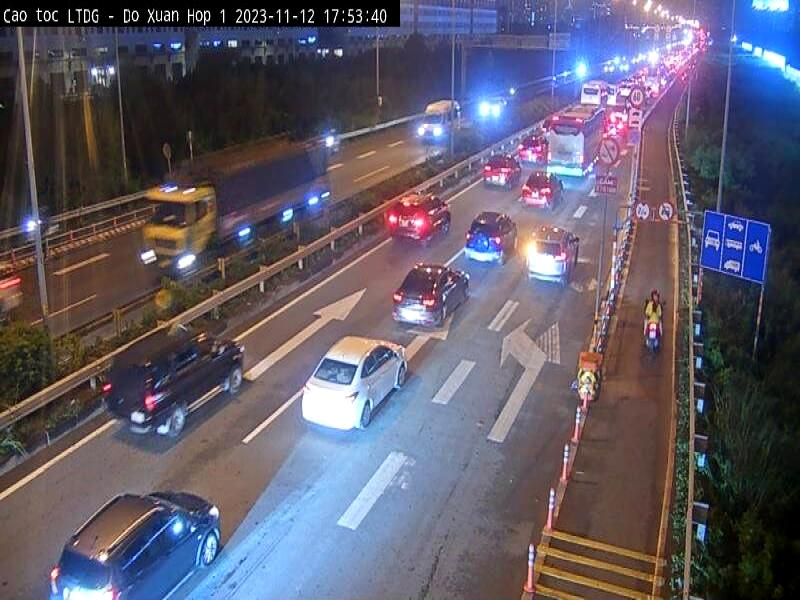bus: (548, 100, 609, 179)
